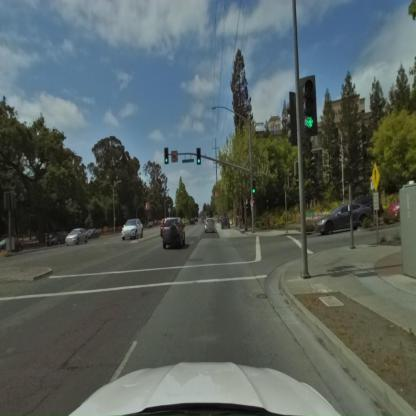car: (316, 200, 373, 235), (162, 218, 187, 250), (121, 219, 144, 240), (66, 228, 89, 245), (46, 233, 63, 245), (87, 229, 101, 241), (204, 219, 214, 232)
